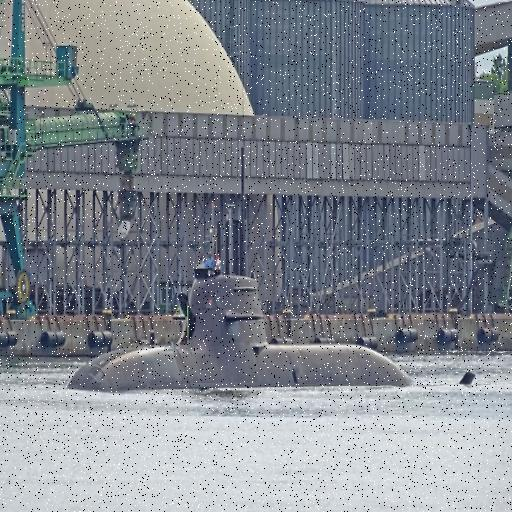submarine: (68, 156, 481, 389)
